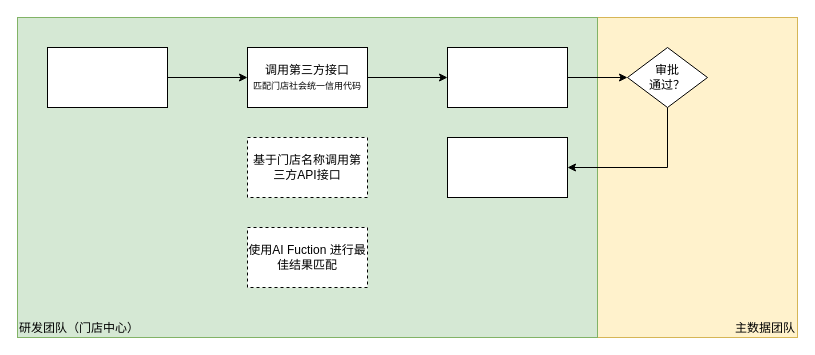
The diagram is 815 pixels wide and 355 high, and some of its shapes have lost their labels. The shapes that lost their labels are listed below. From the top down, each one's centre as x and y in pixels, then its label:
the point at 107,77: 缩小清洗门店范围 （通过拜访、下单）
the point at 507,77: 基于 社会统一信用代码生产审批单
the point at 507,167: 调用清洗接口
